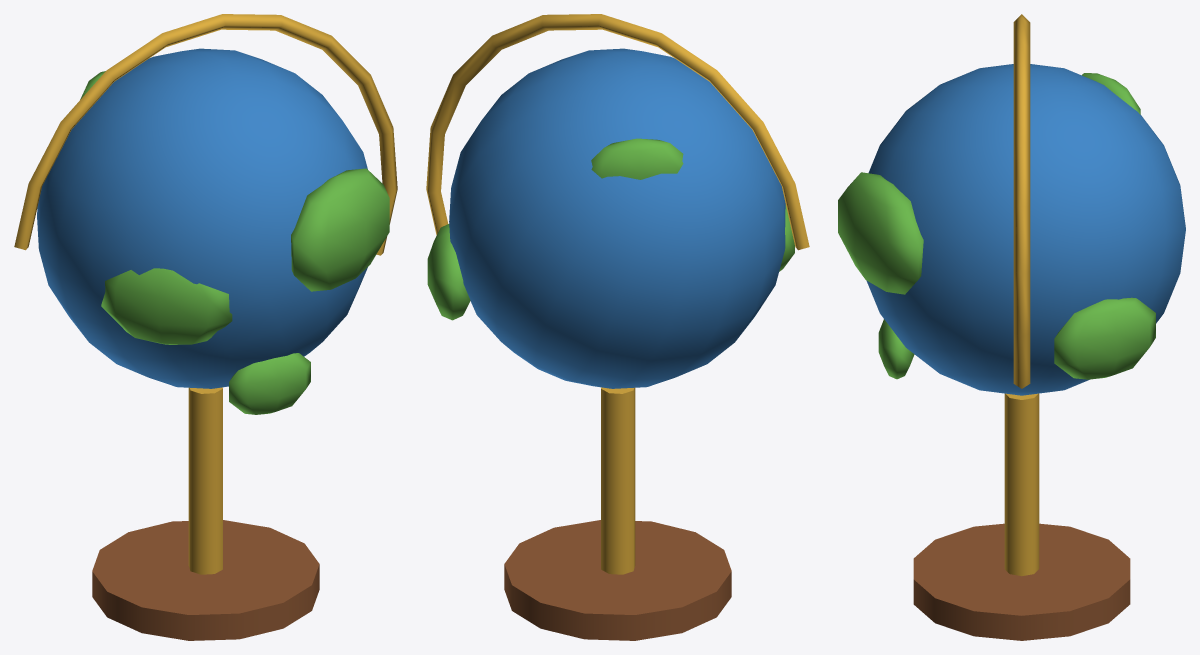
File: globe.glb
3 views of the same model, side by side, from view 1: azimuth 30°, elevation 25°; view 2: azimuth 150°, elevation 25°; view 3: azimuth 270°, elevation 25° (orthographic). The views are drawn at different scales.
Visible parts, largest first — view 1: root; view 2: root; view 3: root.
Part boxes in pixels (x1,y1,x2,y2): root: [14, 14, 397, 640]; root: [426, 14, 809, 640]; root: [838, 14, 1185, 640].
Size of the model in its own units: 0.6214 by 0.8909 by 0.5013.
